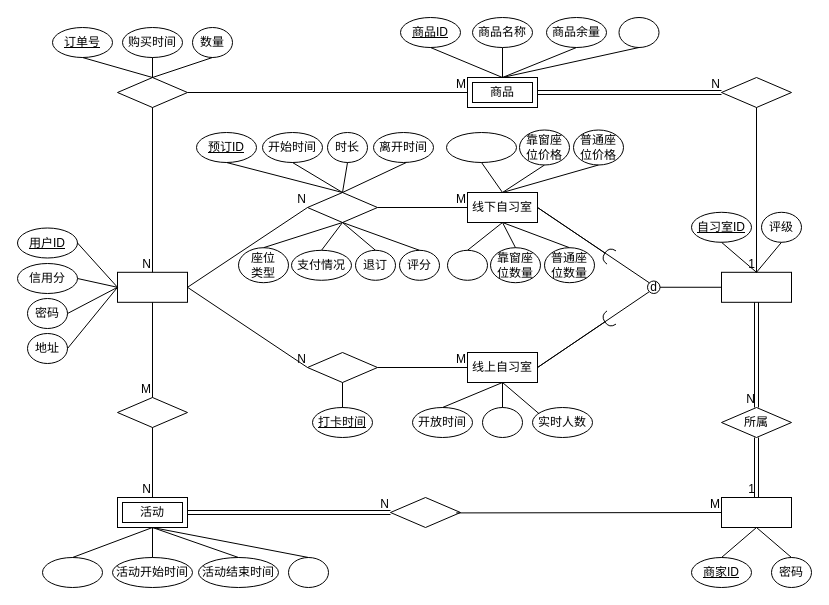
This 829x605 diagram has some shape labels left out. The shapes that lost their labels are listed below. From the top down, each one's box as (x1, y1, x2, y2) in pixels, then its label:
(618, 16, 659, 48): 单价
(116, 76, 188, 108): 购买
(720, 76, 792, 108): 提供
(446, 132, 516, 162): 自习室名称
(306, 192, 378, 222): 预订
(446, 249, 488, 280): 位置
(116, 271, 188, 302): 用户
(720, 271, 792, 302): 自习室
(306, 352, 378, 382): 打卡
(116, 396, 188, 428): 参与
(482, 406, 522, 438): 链接
(390, 496, 460, 528): 推出
(720, 496, 792, 528): 商家
(42, 556, 102, 588): 活动ID
(288, 556, 328, 588): 折扣
